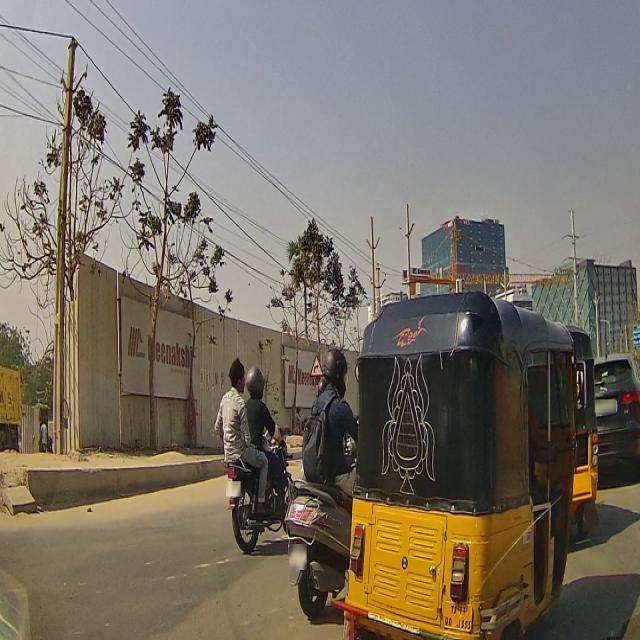right-hand-curve: (310, 356, 324, 376)
